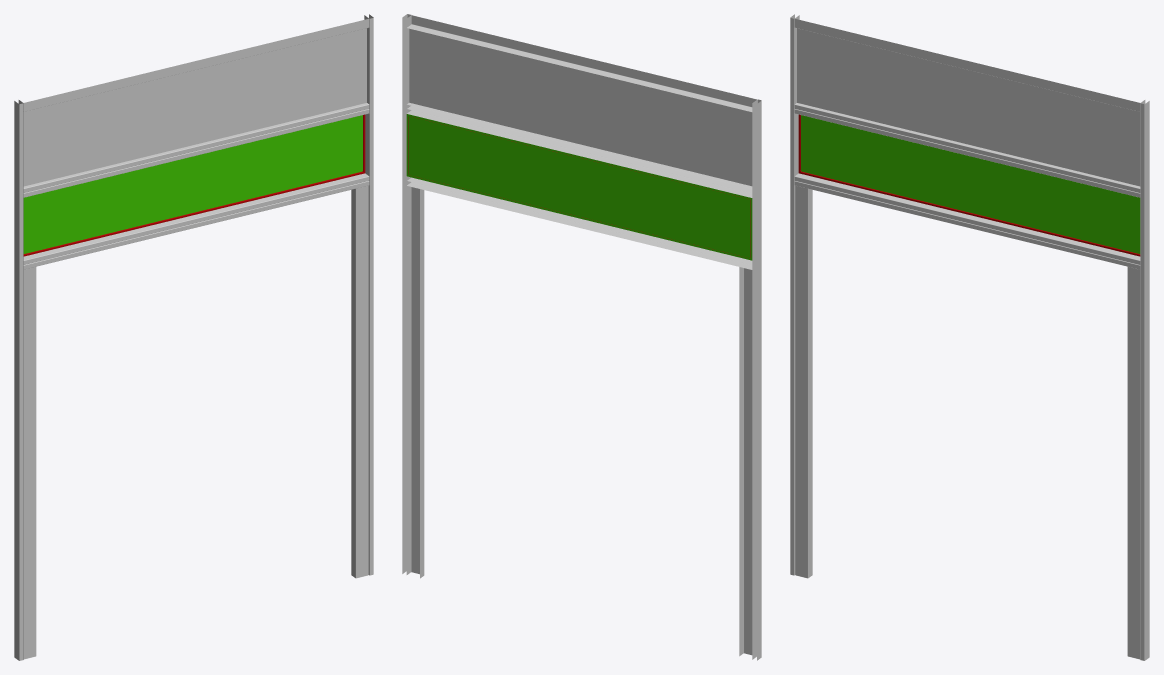
File: Wall04bDoor.fbx
The picture shows the model from 3 angles, left to right: view 1: azimuth 30°, elevation 25°; view 2: azimuth 150°, elevation 25°; view 3: azimuth 330°, elevation 25°; orthographic projection.
Visible parts, largest first — view 1: Wall04bDoor; view 2: Wall04bDoor; view 3: Wall04bDoor.
Part boxes in pixels (<box>): Wall04bDoor: <box>14,14,373,660</box>; Wall04bDoor: <box>402,14,761,660</box>; Wall04bDoor: <box>790,14,1149,660</box>.
Bounding box in the file's own units: 200 × 300 × 5.
